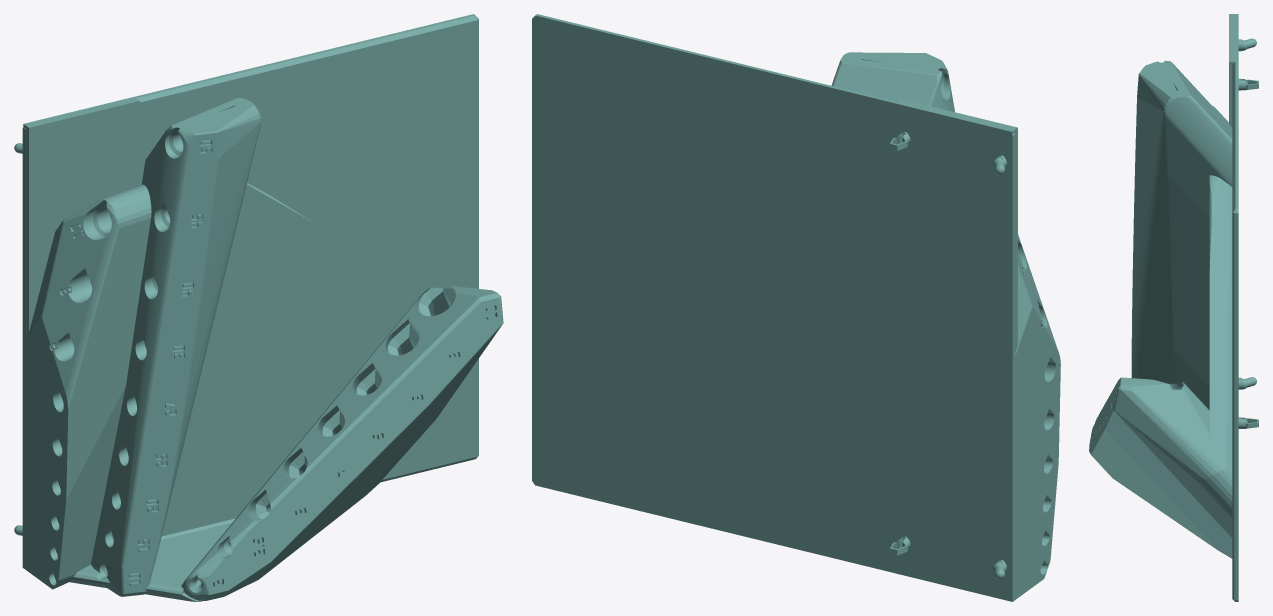
The model's file is part-hx04__v1__left-cheek__fit-pf02c9-hoop5__print.glb.
3 renders of one model, left to right at view 1: azimuth 30°, elevation 25°; view 2: azimuth 150°, elevation 25°; view 3: azimuth 270°, elevation 25°, orthographic. The views are drawn at different scales.
Parts seen in each view (by area): view 1: holder; view 2: holder; view 3: holder.
Boxes of the visible parts, x1,y1,x2,y2 form: holder: (14, 14, 503, 601); holder: (532, 14, 1060, 601); holder: (1089, 14, 1258, 601).
Size of the model in its own units: 0.2526 by 0.236 by 0.0924.
